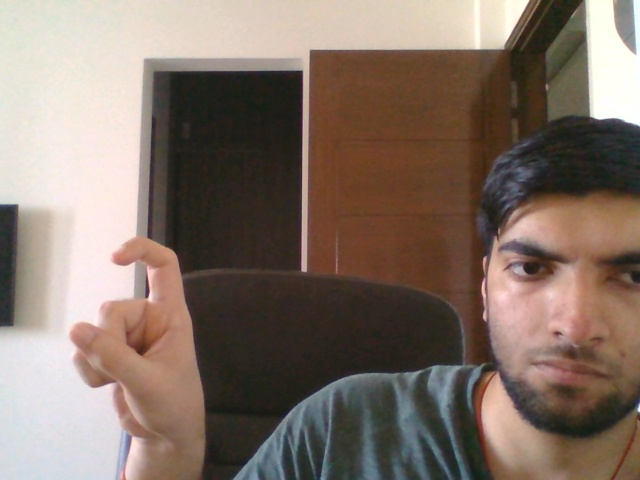LetterZ: (66, 234, 212, 445)
